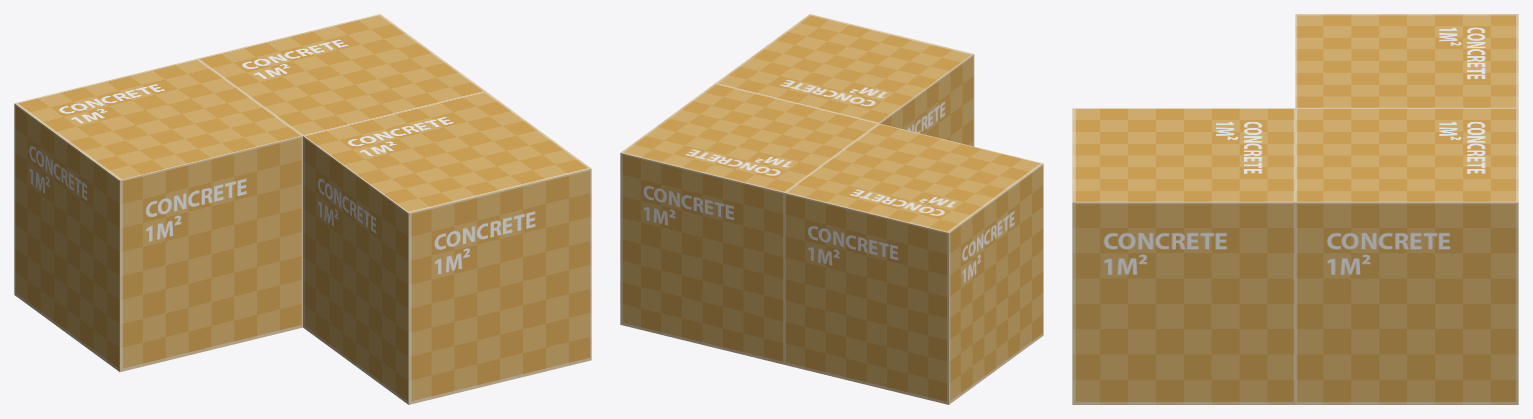
The model's file is construction_edge_concave_4.fbx.
3 views of the same model, side by side, from view 1: azimuth 30°, elevation 25°; view 2: azimuth 150°, elevation 25°; view 3: azimuth 270°, elevation 25° (orthographic). The views are drawn at different scales.
Visible parts, largest first — view 1: construction_edge_concave_4; view 2: construction_edge_concave_4; view 3: construction_edge_concave_4.
Part boxes in pixels (x1=…): construction_edge_concave_4: x1=14, y1=14, x2=591, y2=404; construction_edge_concave_4: x1=620, y1=14, x2=1043, y2=404; construction_edge_concave_4: x1=1072, y1=14, x2=1518, y2=404.
Size of the model in its own units: 200 by 100 by 200.
